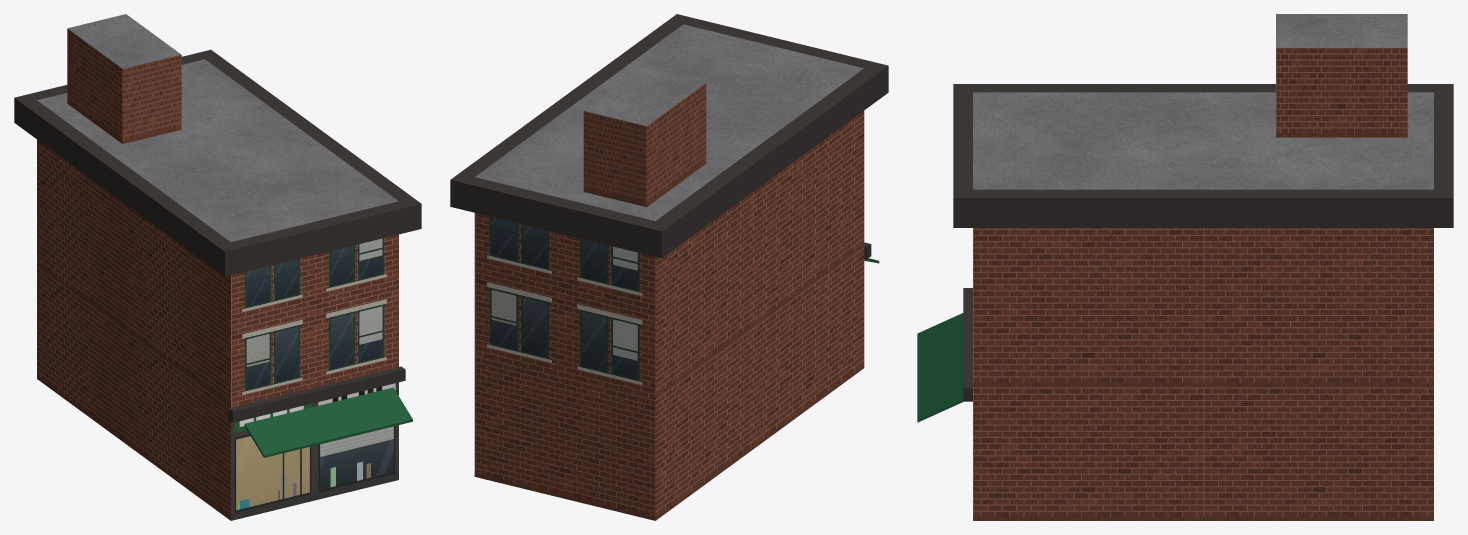
The model's file is 059_deli_apartments.glb.
3 renders of one model, left to right at view 1: azimuth 30°, elevation 25°; view 2: azimuth 150°, elevation 25°; view 3: azimuth 270°, elevation 25°, orthographic. The views are drawn at different scales.
Parts seen in each view (by area): view 1: 059_deli_apartments; view 2: 059_deli_apartments; view 3: 059_deli_apartments.
Part boxes in pixels (bbox=[...]): 059_deli_apartments: bbox=[14, 14, 421, 520]; 059_deli_apartments: bbox=[450, 14, 888, 520]; 059_deli_apartments: bbox=[917, 14, 1453, 520].
Bounding box in the file's own units: 8.2 × 14.1 × 16.3.
Materials: 6 (4 with a texture image).
